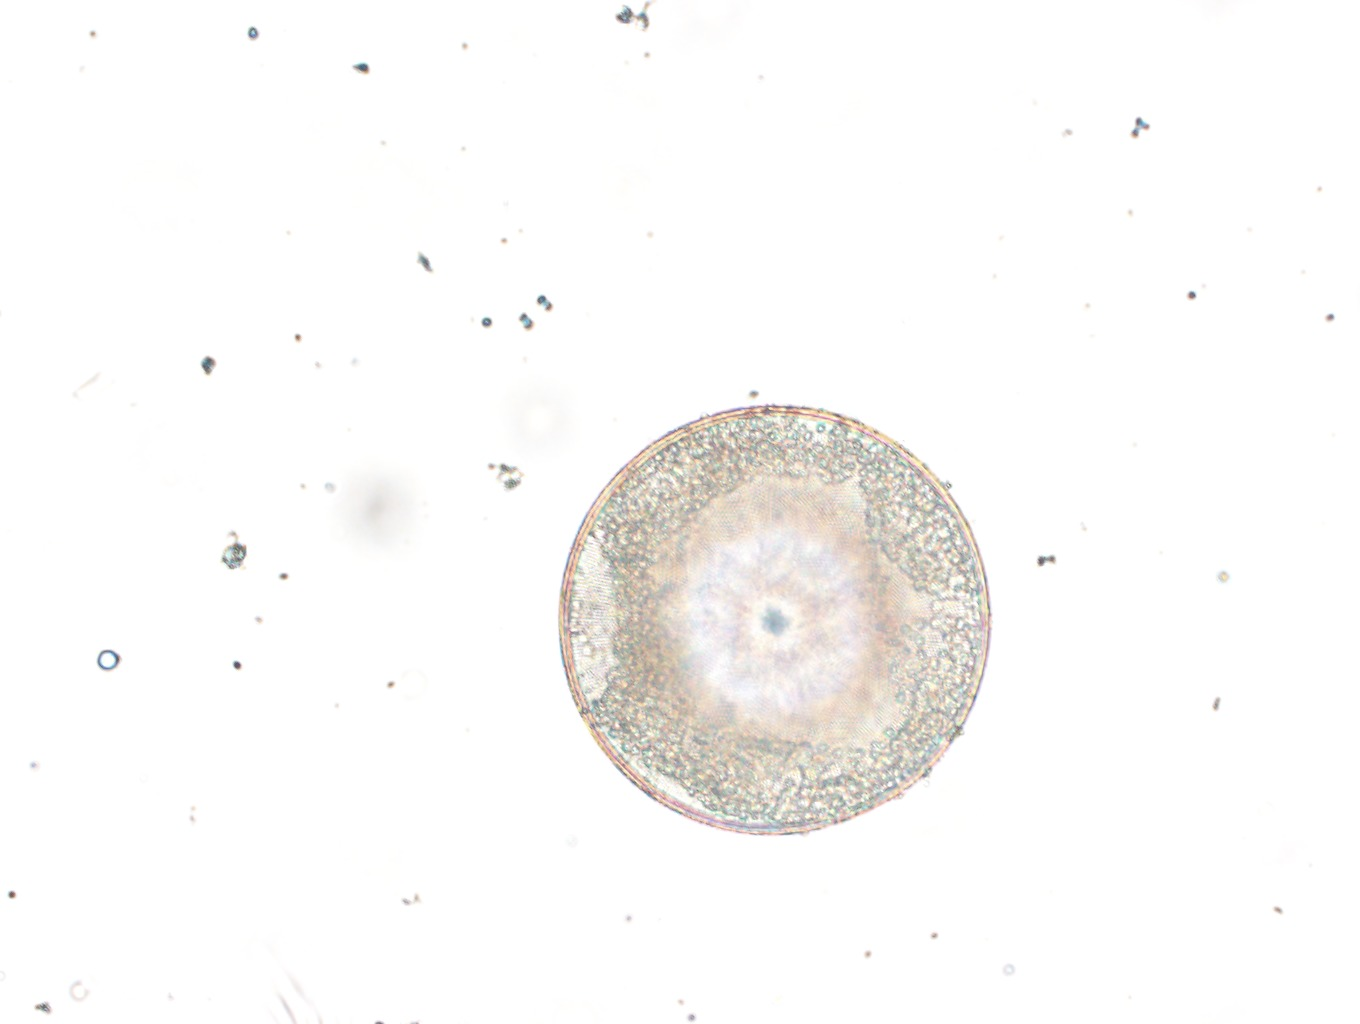coscinodiscus: (558, 402, 992, 836)
